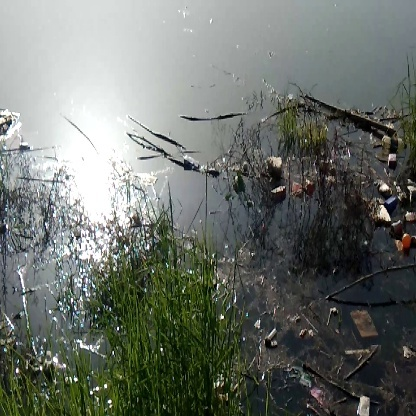branch: (330, 255, 416, 301)
